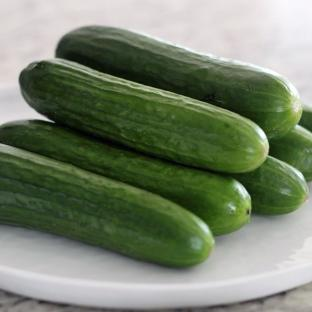Cucumber: (0, 120, 251, 235), (20, 59, 268, 172), (56, 26, 301, 137), (0, 145, 214, 267), (231, 156, 308, 214), (270, 125, 311, 180), (299, 104, 311, 131)
